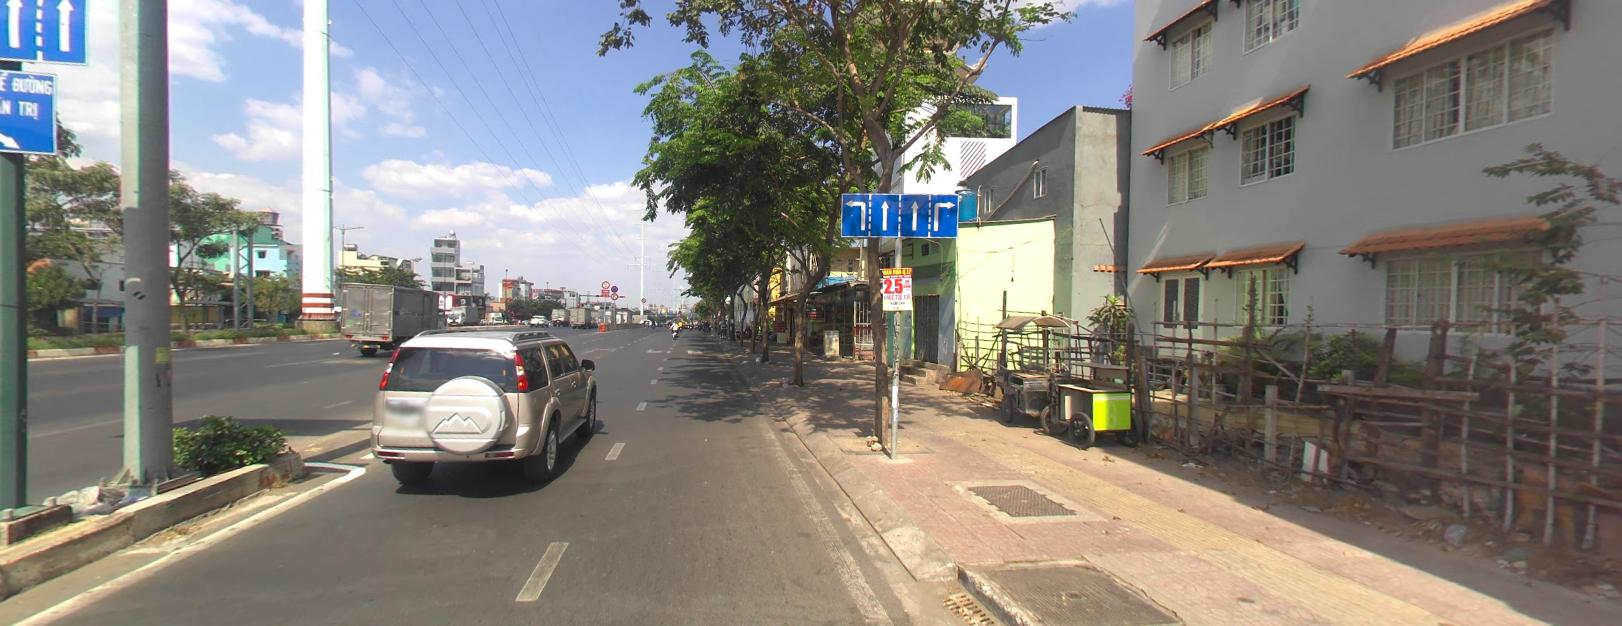Cam con lai: (601, 279, 609, 286), (641, 296, 646, 301)
Cam dung va do: (610, 283, 617, 290)
Cam re: (610, 291, 617, 298)
